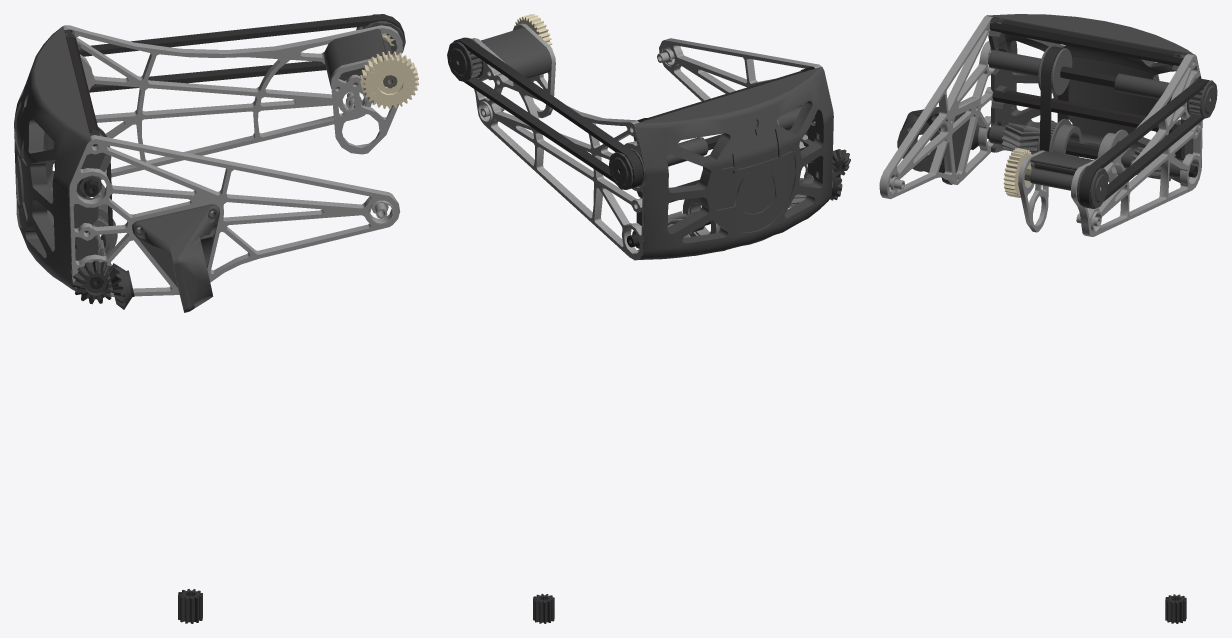
Rendered from 1690-hood.glb.
The picture shows the model from 3 angles, left to right: view 1: azimuth 30°, elevation 25°; view 2: azimuth 150°, elevation 25°; view 3: azimuth 270°, elevation 25°; orthographic projection. The views are drawn at different scales.
Parts seen in each view (by area): view 1: 1690-26-441-03A-Mirrored, 1690-26-451-05A, 110T 5M 9mm Wide Belt, 1690-26-441-05A 30T-Mirrored, 1690-26-442-02A, 1690-26-441-08A, 1690-26-443-03A 40Tgt2, 12t Steel Spur Gear (20 DP, SplineXS Bore); view 2: 1690-26-451-05A, 1690-26-441-03A-Mirrored, 110T 5M 9mm Wide Belt, 1690-26-442-08A, 1690-26-441-08A, 1690-26-442-02A, 12t Steel Spur Gear (20 DP, SplineXS Bore); view 3: 1690-26-441-03A-Mirrored, 1690-26-451-05A, 1690-26-441-08A, 110T 5M 9mm Wide Belt, 1690-26-442-08A, 1690-26-443-03A 40Tgt2, 1690-26-441-05A 30T-Mirrored, 12t Steel Spur Gear (20 DP, SplineXS Bore), 1690-26-443-07A.
Part boxes in pixels (x1,y1,x2,y2): 1690-26-441-03A-Mirrored: (52,25,402,296); 1690-26-451-05A: (14,14,404,312); 110T 5M 9mm Wide Belt: (54,14,405,225); 1690-26-441-05A 30T-Mirrored: (360,33,418,109); 1690-26-442-02A: (72,260,134,309); 1690-26-441-08A: (66,37,103,289); 1690-26-443-03A 40Tgt2: (53,127,117,256); 12t Steel Spur Gear (20 DP, SplineXS Bore): (178,589,202,623); 1690-26-451-05A: (447,27,833,259); 1690-26-441-03A-Mirrored: (472,23,832,260); 110T 5M 9mm Wide Belt: (453,37,643,189); 1690-26-442-08A: (632,105,815,248); 1690-26-441-08A: (619,70,806,247); 1690-26-442-02A: (830,149,850,200); 12t Steel Spur Gear (20 DP, SplineXS Bore): (533,593,554,623); 1690-26-441-03A-Mirrored: (879,16,1202,236); 1690-26-451-05A: (897,14,1217,208); 1690-26-441-08A: (987,20,1197,177); 110T 5M 9mm Wide Belt: (1039,46,1209,208); 1690-26-442-08A: (988,50,1191,190); 1690-26-443-03A 40Tgt2: (1001,45,1177,181); 1690-26-441-05A 30T-Mirrored: (1003,98,1210,197); 12t Steel Spur Gear (20 DP, SplineXS Bore): (1165,594,1186,623); 1690-26-443-07A: (1097,129,1130,182).
Size of the model in its own units: 0.321 by 0.4761 by 0.2819.
